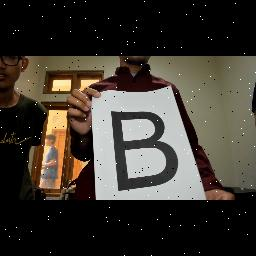b: (106, 106, 182, 194)
